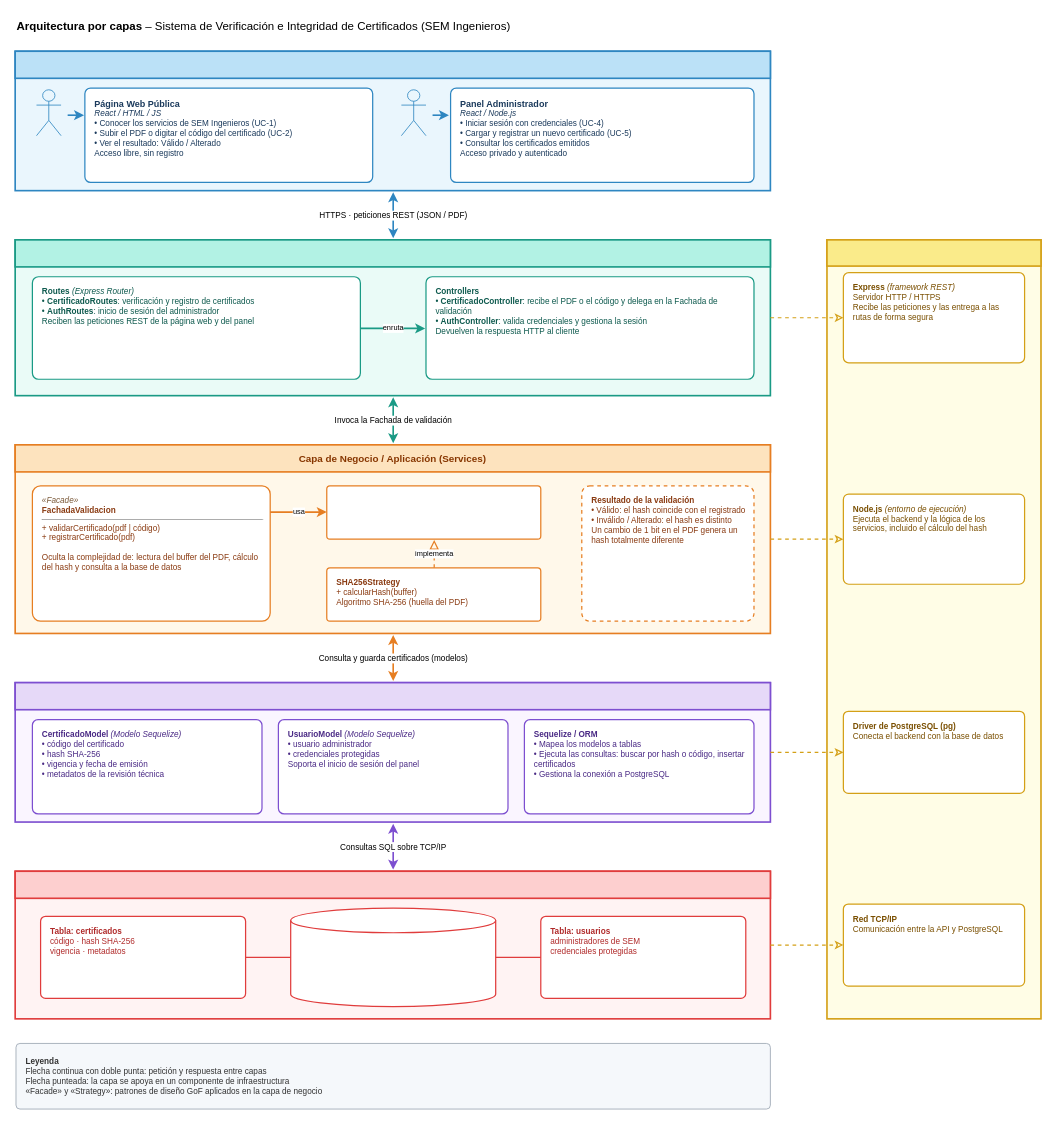
Some shapes in this 1055 by 1123 pixel diagram are drawn without their labels. Each missing label, with the centre of its shape:
"Administrador SEM" goes at [413,112].
"Capa de Acceso a Datos (Models / ORM)" goes at [392,695].
"Capa de Cliente" goes at [392,64].
"Capa de Persistencia (Database)" goes at [392,884].
"Capa de Presentación (Routes y Controllers)" goes at [392,253].
"Infraestructura" goes at [933,252].
"PostgreSQL Almacenamiento relacional" goes at [393,957].
"Usuario público" goes at [48,112].
"«interface» «Strategy» HashingStrategy + calcularHash(buffer)" goes at [433,512].
